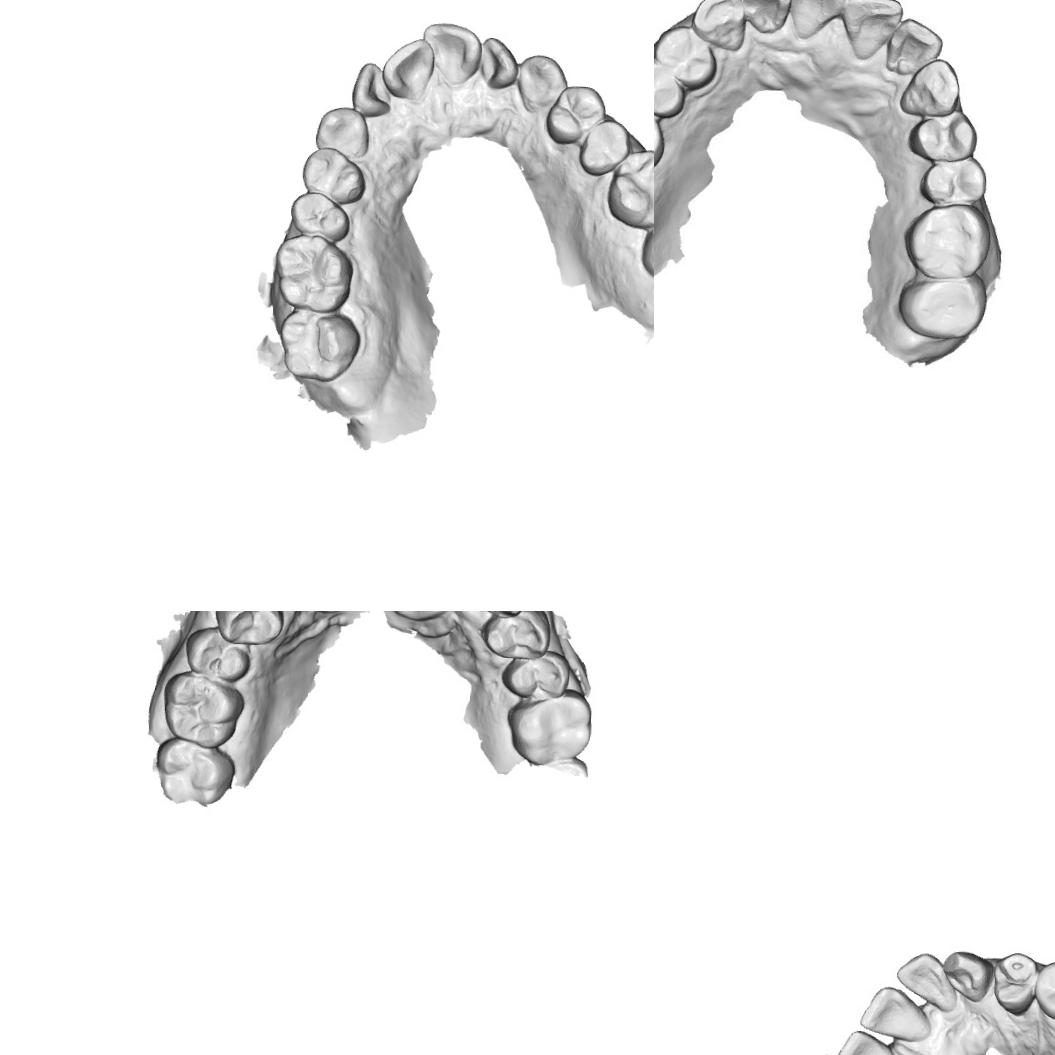canine: (899, 56, 960, 115), (514, 51, 569, 114), (938, 945, 992, 1005), (687, 0, 750, 51), (314, 105, 370, 158)
incisor: (891, 948, 960, 1016), (856, 983, 934, 1043), (420, 20, 482, 86), (379, 35, 434, 101), (837, 0, 898, 56), (882, 17, 944, 72), (350, 60, 394, 118), (477, 35, 520, 90), (831, 1025, 906, 1055), (784, 0, 843, 36), (740, 0, 791, 32)
molar: (502, 684, 594, 768), (159, 668, 248, 750), (272, 230, 355, 313), (897, 271, 992, 343), (904, 202, 988, 282), (275, 306, 361, 383), (150, 734, 238, 809), (604, 146, 654, 232), (638, 205, 654, 285)
premolar: (180, 622, 253, 682), (498, 645, 574, 702), (544, 83, 608, 147), (298, 145, 366, 204), (988, 948, 1044, 1017), (479, 611, 555, 661), (915, 157, 993, 205), (654, 26, 716, 86), (906, 109, 977, 159), (576, 117, 632, 177), (288, 190, 351, 240), (210, 611, 288, 647), (654, 61, 683, 113), (1033, 957, 1055, 1024)
